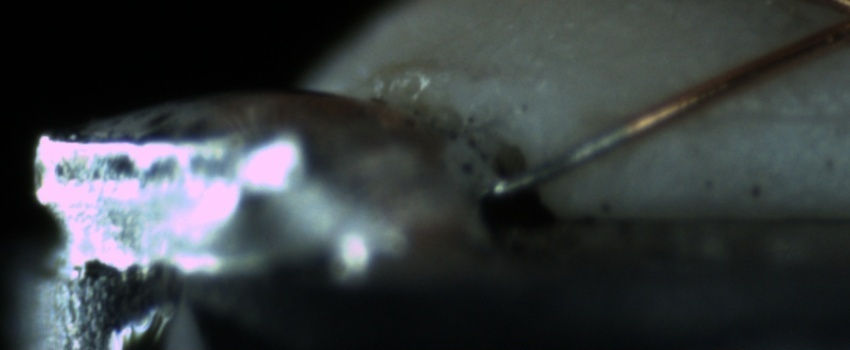CL: (810, 0, 850, 46)
DL: (688, 84, 849, 148)
TS: (493, 120, 633, 194)
